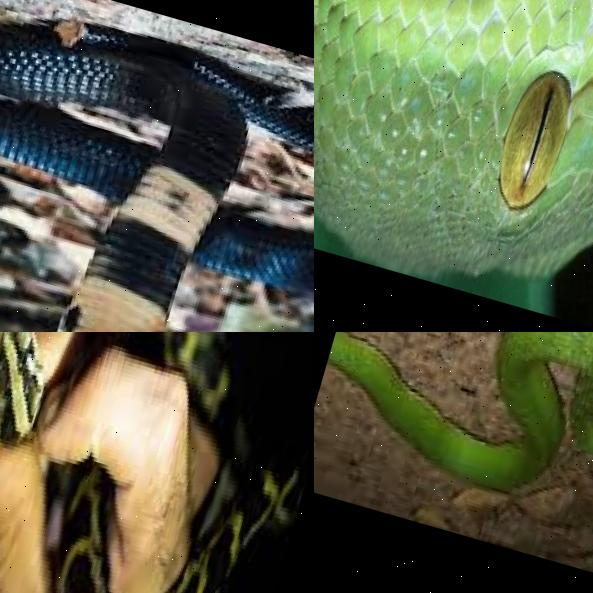snake: (0, 0, 314, 332), (314, 0, 593, 332), (0, 332, 314, 593), (314, 332, 593, 557)
